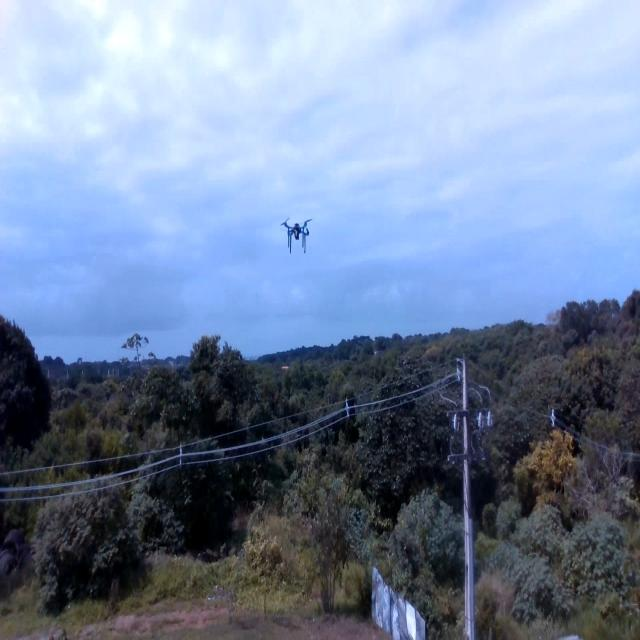-uav-: (272, 197, 320, 265)
